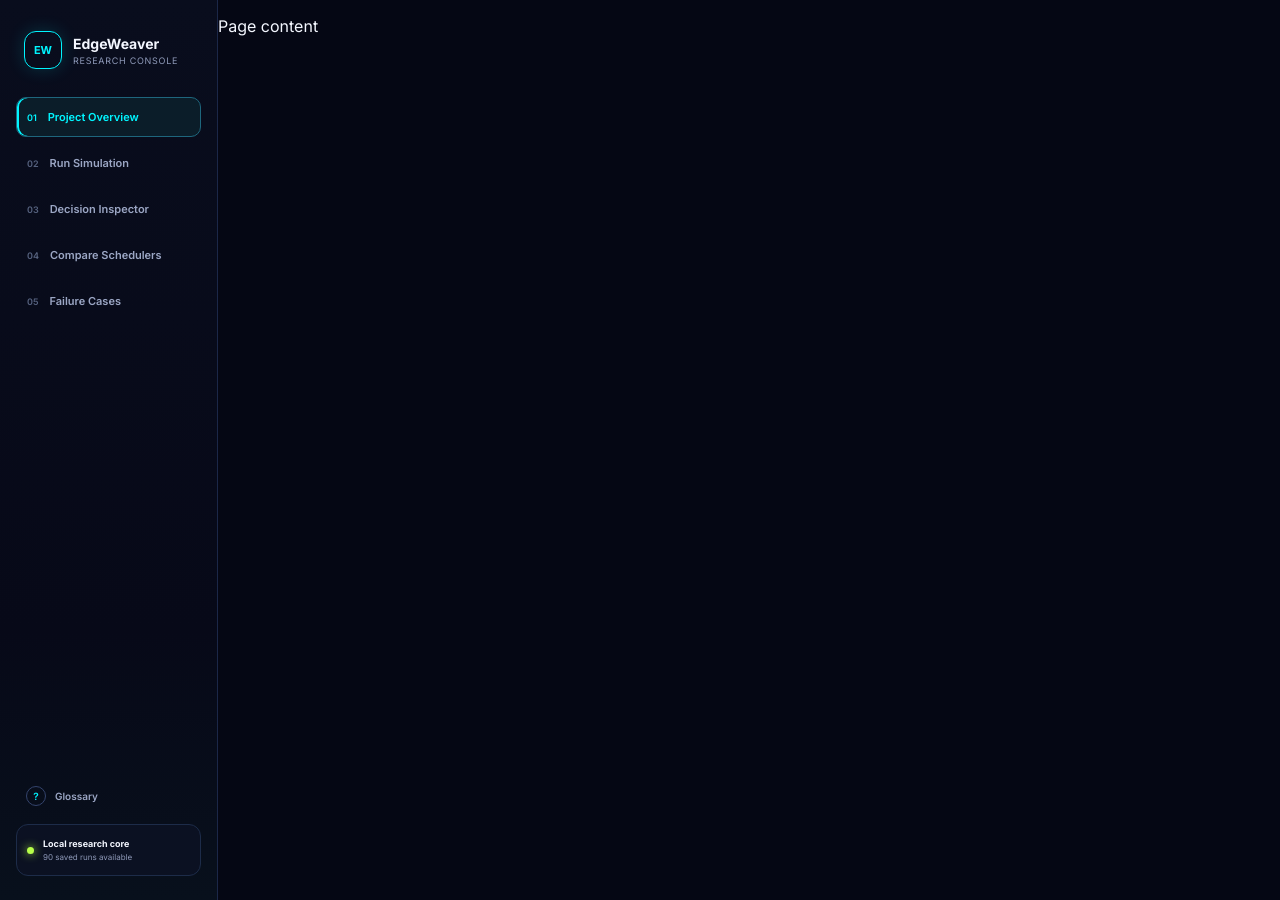
Scenario: AppShell › opens the glossary and dismisses it with Escape
This screenshot has width=1280, height=900.
Step 1. Click the button "? Glossary" → [108, 796], box [16,776,201,816]
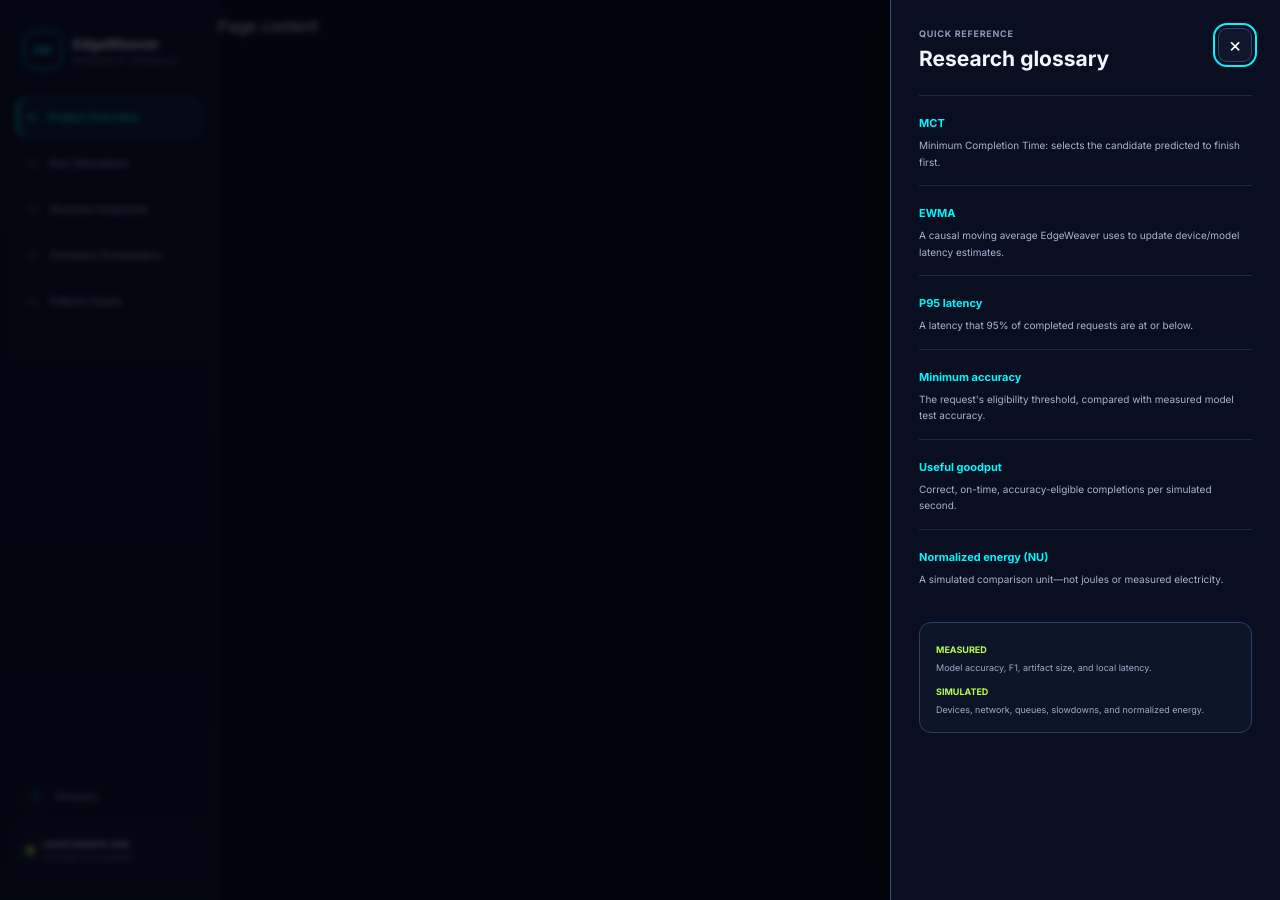
Expected: the dialog "Research glossary" is shown, [890,0,1279,899]
Step 2. Press Escape
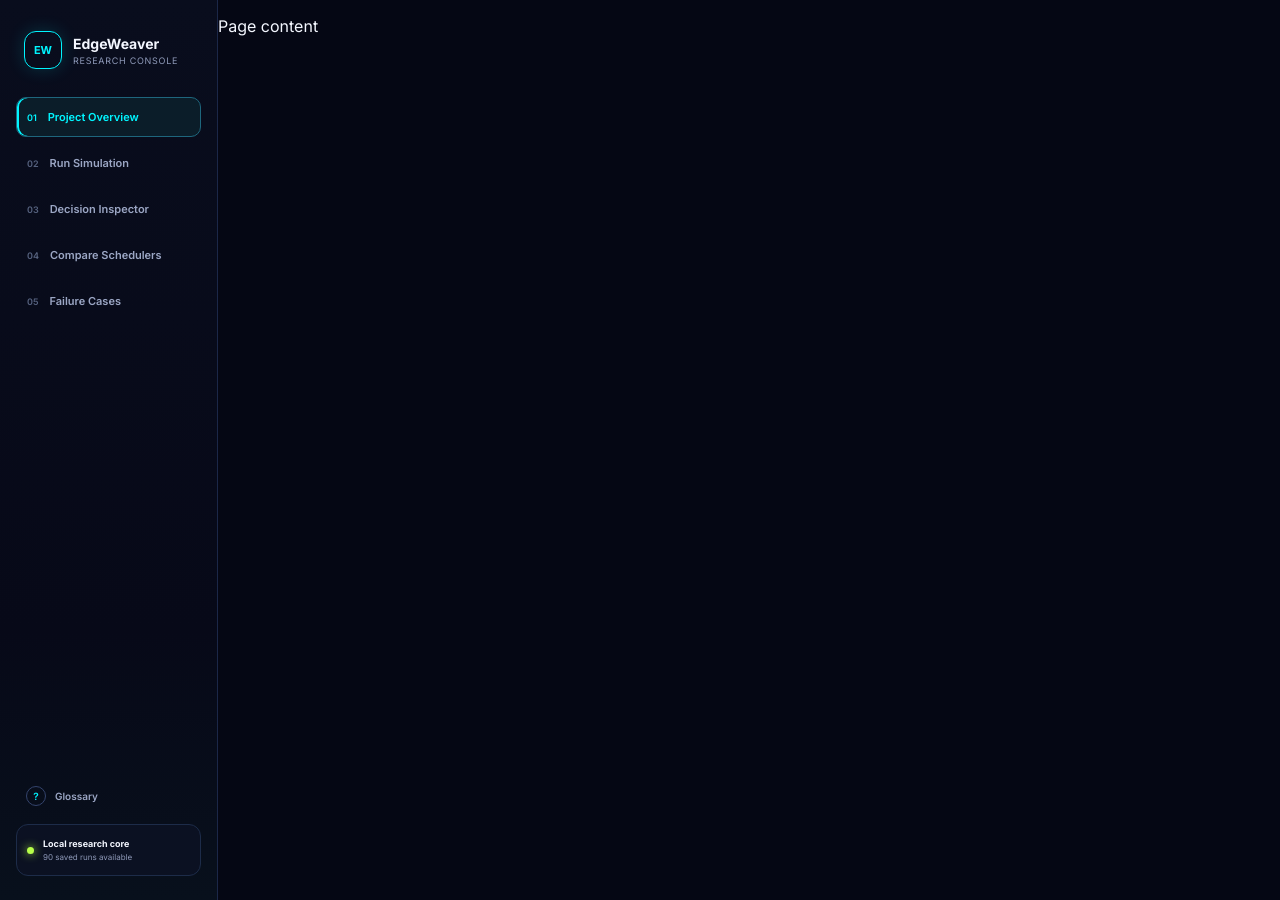
Expected: the heading "Research glossary" is gone
